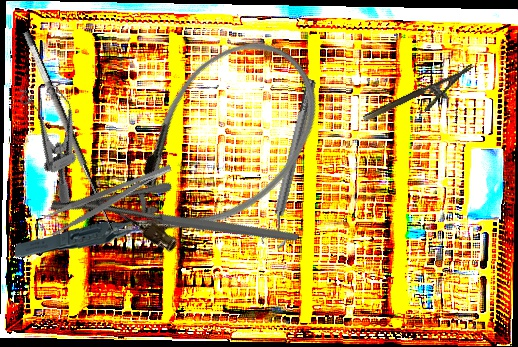Cannula: (85, 11, 350, 284)
Dressing Forceps: (42, 161, 178, 237)
Fixation Ring: (258, 76, 326, 251)
Hook Surgical: (20, 23, 134, 241)
Needle Holder: (49, 128, 300, 316), (361, 63, 483, 137)
Speculum: (7, 70, 110, 206)
Tissue Forceps: (14, 213, 162, 266)
